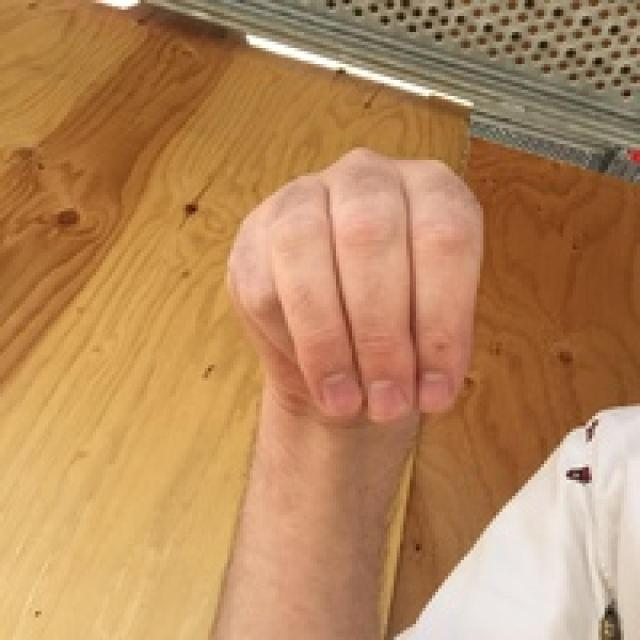M: (227, 112, 501, 435)
